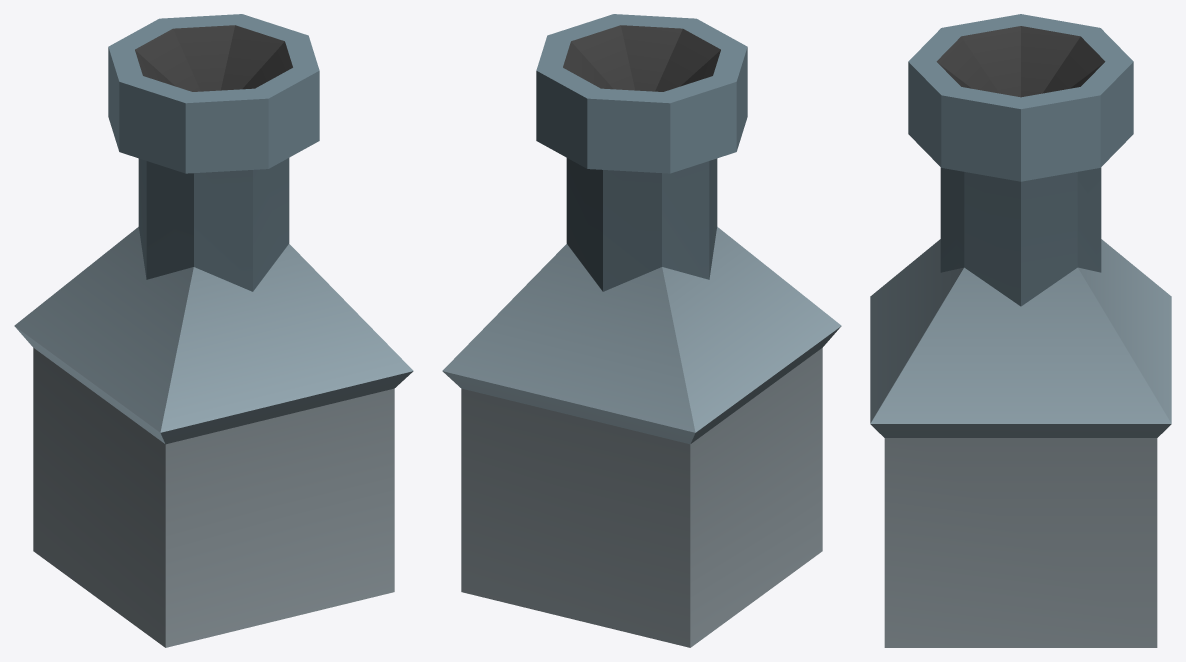
The model's file is hangar_022.glb.
3 renders of one model, left to right at view 1: azimuth 30°, elevation 25°; view 2: azimuth 150°, elevation 25°; view 3: azimuth 270°, elevation 25°, orthographic. The views are drawn at different scales.
Visible parts, largest first — view 1: hangar_022; view 2: hangar_022; view 3: hangar_022.
Part boxes in pixels (x1,y1,x2,y2): hangar_022: (14,14,413,647); hangar_022: (442,14,841,647); hangar_022: (870,14,1171,647).
Bounding box in the file's own units: 1.08 × 2.08 × 1.08.
1 material, 1 textured.
